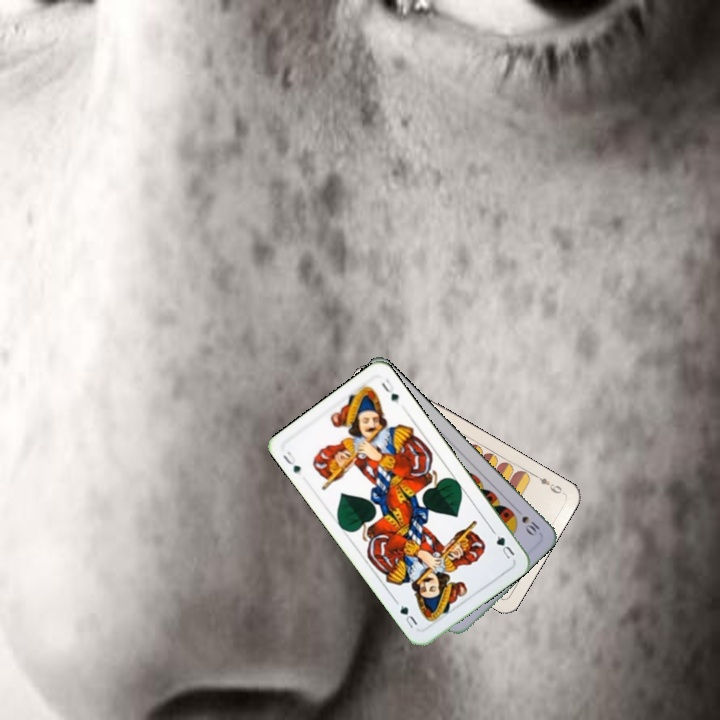E9: (530, 470, 567, 496)
GU: (489, 527, 517, 562), (278, 447, 303, 477)
S10: (511, 504, 542, 538)
